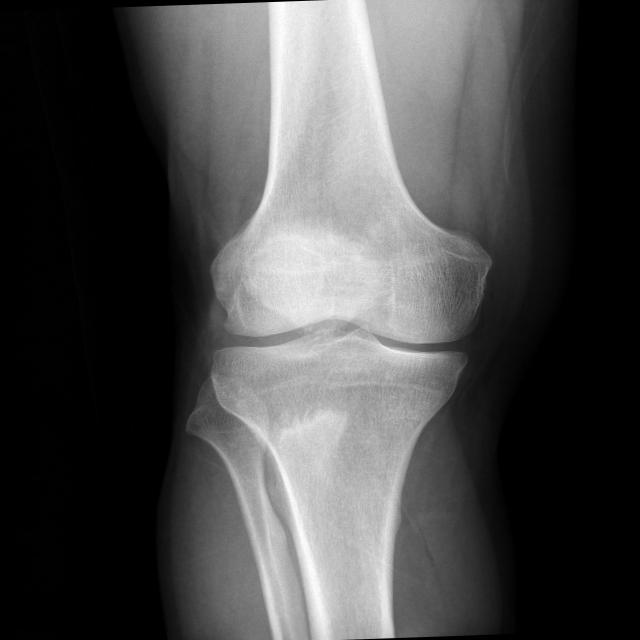Knee: (203, 221, 502, 456)
